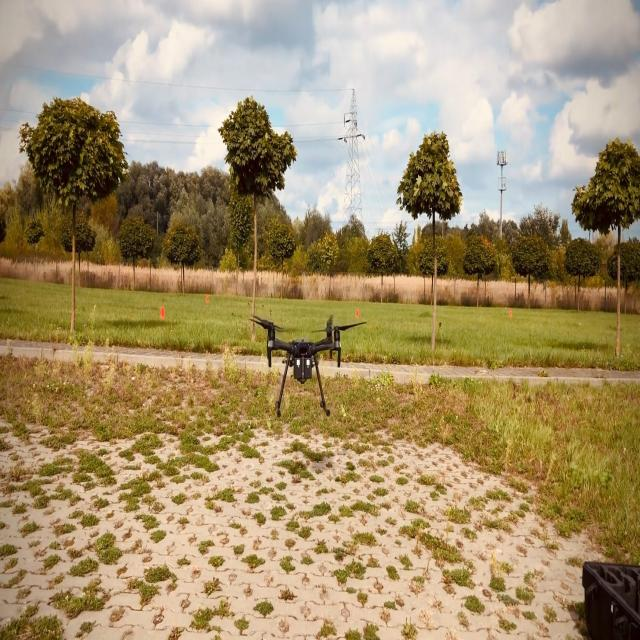drone: (248, 313, 367, 418)
